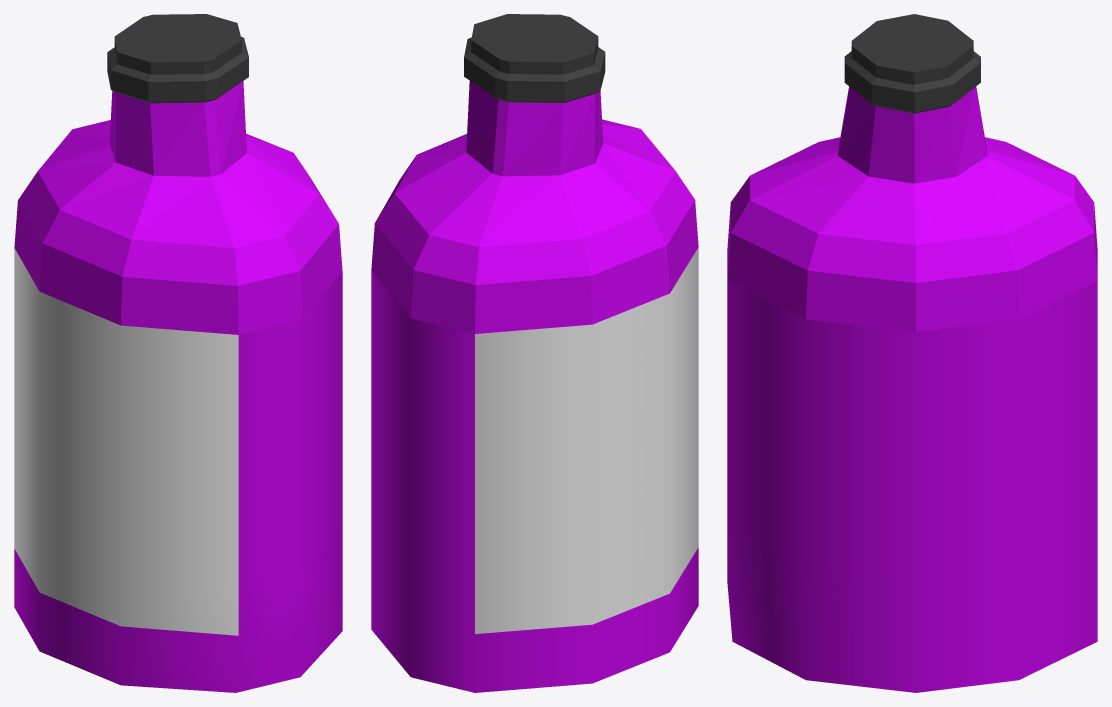
The model's file is Botella4.fbx.
3 renders of one model, left to right at view 1: azimuth 30°, elevation 25°; view 2: azimuth 150°, elevation 25°; view 3: azimuth 270°, elevation 25°, orthographic.
Visible parts, largest first — view 1: Botella04_LOD00; view 2: Botella04_LOD00; view 3: Botella04_LOD00.
Part boxes in pixels (box(x1,y1,x2,y2)): Botella04_LOD00: box(14, 14, 342, 692); Botella04_LOD00: box(371, 14, 698, 692); Botella04_LOD00: box(727, 14, 1097, 692).
Size of what is drawn, in the model's own units: 12.38 by 25.07 by 14.44.
1 material, 1 textured.
